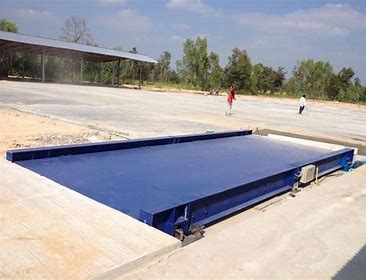Industrial Scale: (4, 129, 360, 242)
